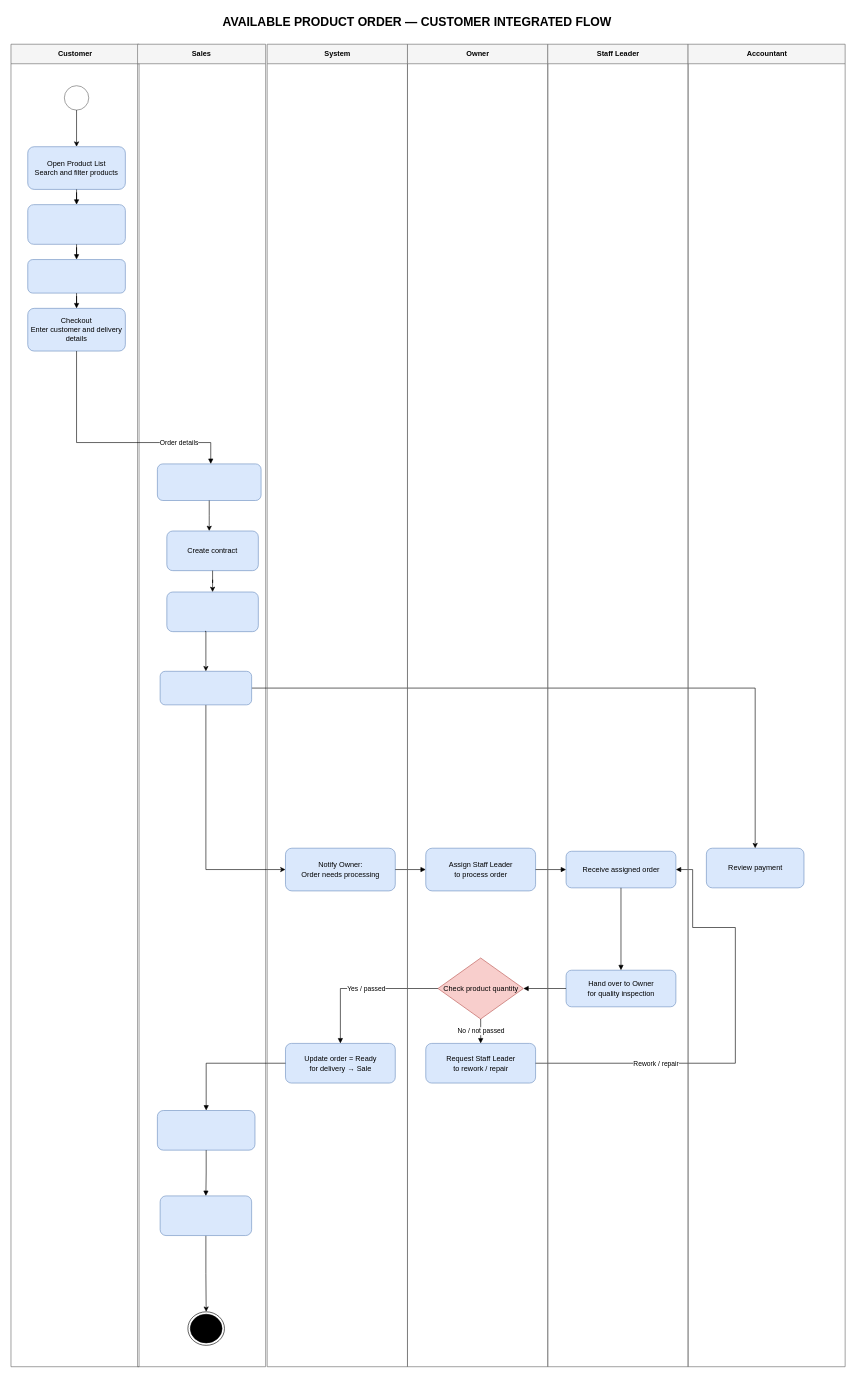
The diagram is 856 pixels wide and 1377 high, and some of its shapes have lost their labels. Here are the shapes that lost their labels. From the top down, the box of each, then its label:
(64, 85, 89, 110): Start
(27, 204, 125, 244): Select product View product details
(27, 259, 125, 293): Add product to cart
(157, 463, 261, 501): Receive checkout/order details
(166, 591, 258, 632): Confirm bank transfer or cash
(160, 671, 252, 705): Accept contract
(157, 1110, 255, 1150): Deliver order / confirm received
(160, 1195, 252, 1236): Hand over to customer; Sale confirms final payment
